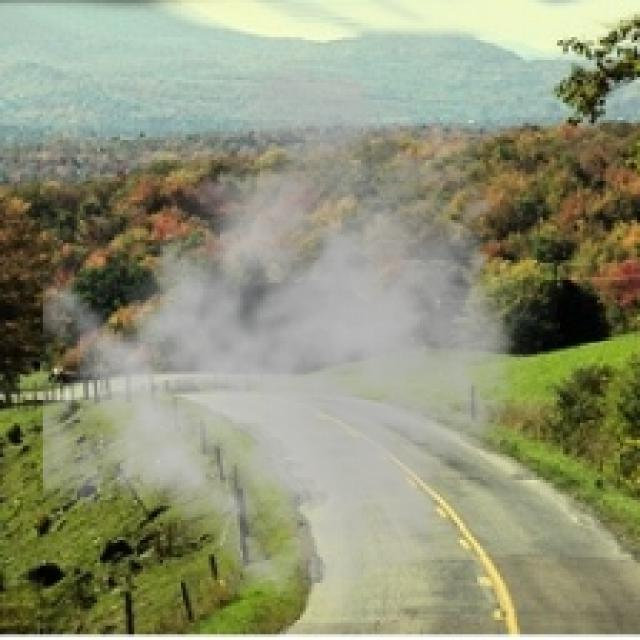smoke: (43, 66, 563, 617)
